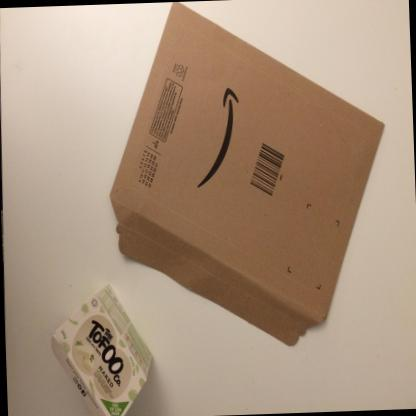Paper: (109, 2, 384, 346), (50, 282, 151, 416)
